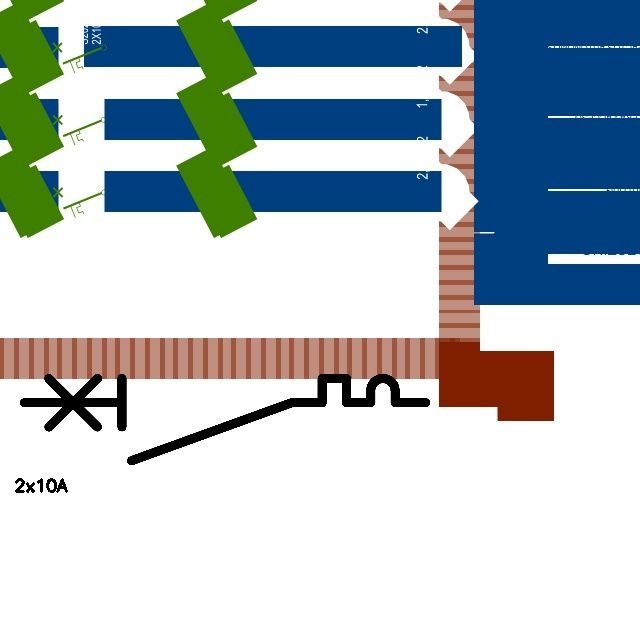interruptor_termomagnetico: (14, 368, 436, 471)
